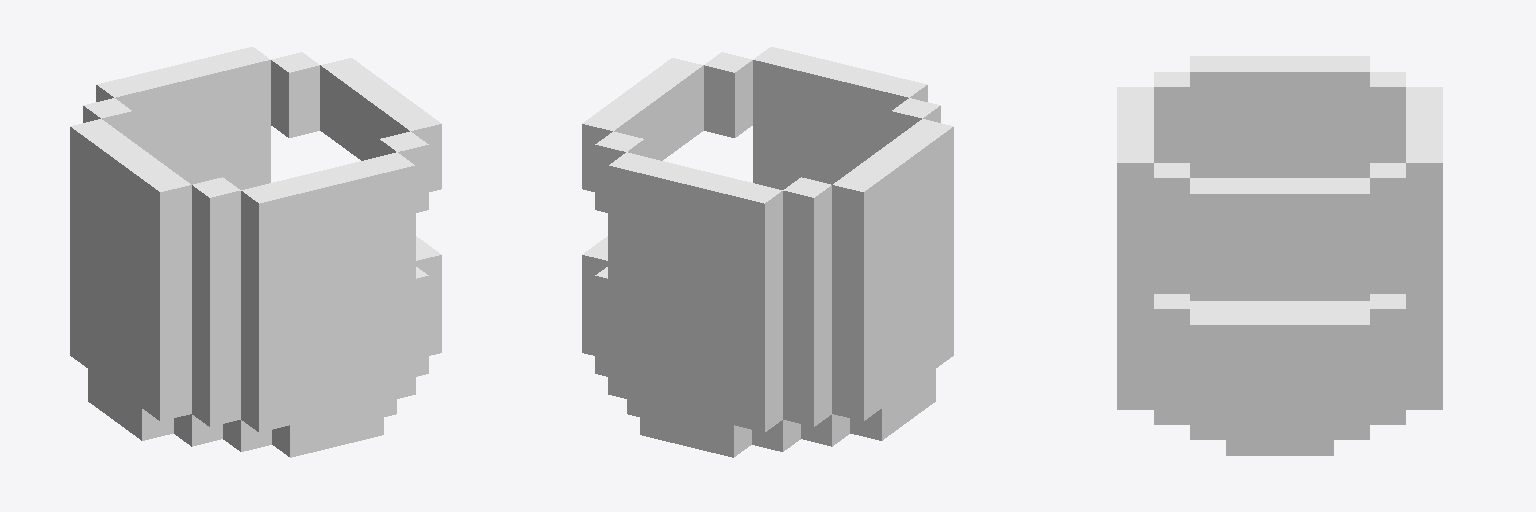
The model's file is confiot-2.obj.
3 renders of one model, left to right at view 1: azimuth 30°, elevation 25°; view 2: azimuth 150°, elevation 25°; view 3: azimuth 270°, elevation 25°, orthographic.
Parts seen in each view (by area): view 1: object 1; view 2: object 1; view 3: object 1.
Boxes of the visible parts, box(x1,y1,x2,y2) form: object 1: box(70, 47, 441, 457); object 1: box(582, 47, 953, 457); object 1: box(1117, 56, 1442, 455).
Bounding box in the file's own units: 0.9 × 0.8 × 0.9.